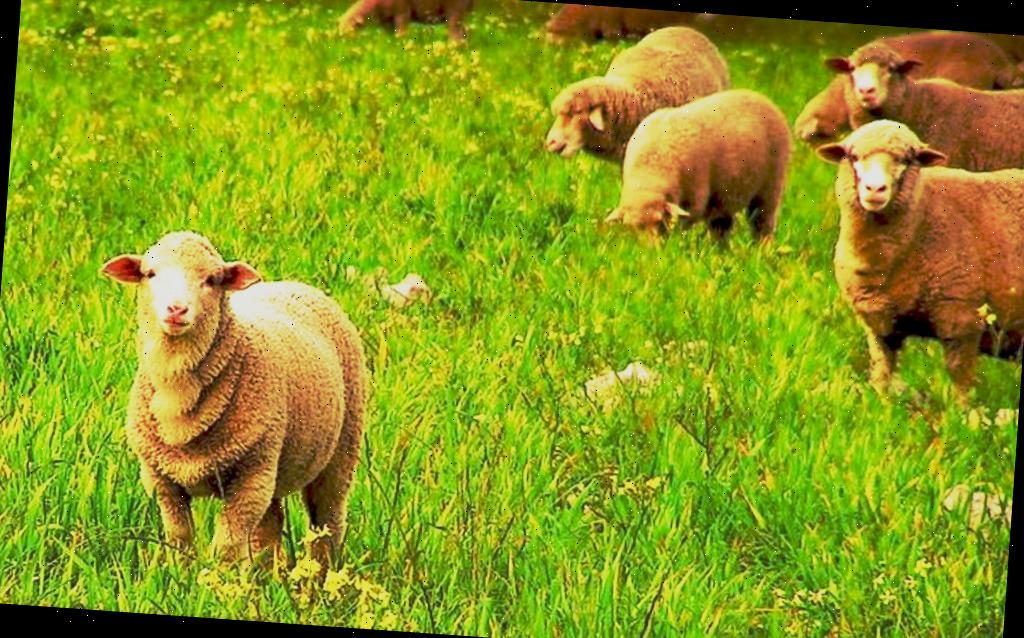Sheep: (80, 226, 372, 596), (792, 115, 1024, 417), (534, 15, 747, 188), (610, 78, 798, 271), (819, 42, 1024, 195), (331, 0, 478, 43)
